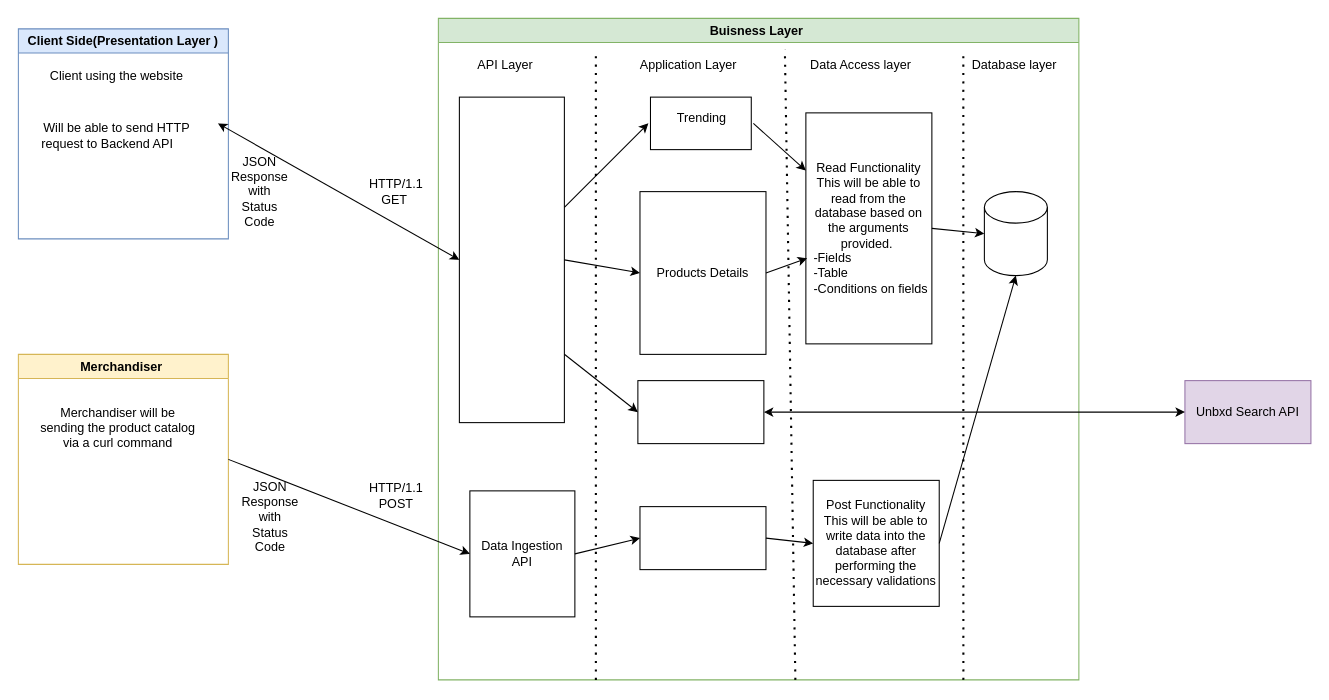
This 1329x700 diagram has some shape labels left out. The centre of each missing label's shape, as x and y in pixels:
Backend API: [511,259]
Data Ingestion: [702,538]
PostgreSQL: [1015,233]
Query: [700,412]
